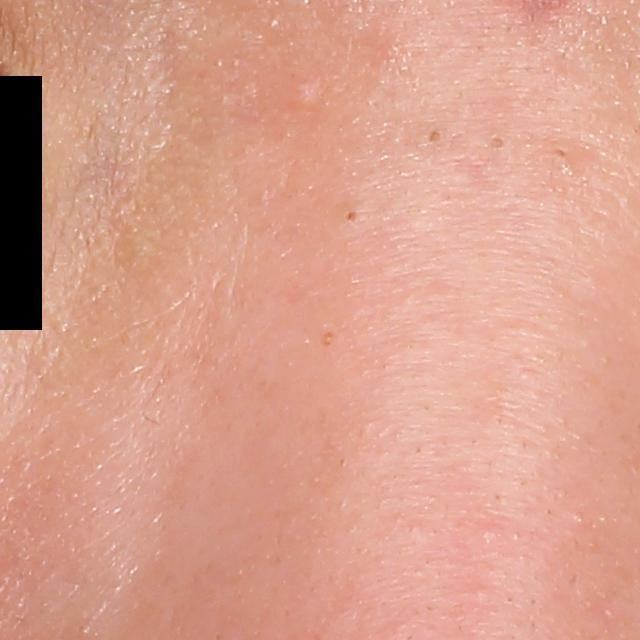comedo: (294, 78, 326, 109), (484, 133, 508, 152), (553, 143, 571, 161), (341, 206, 359, 223), (425, 131, 442, 146)
